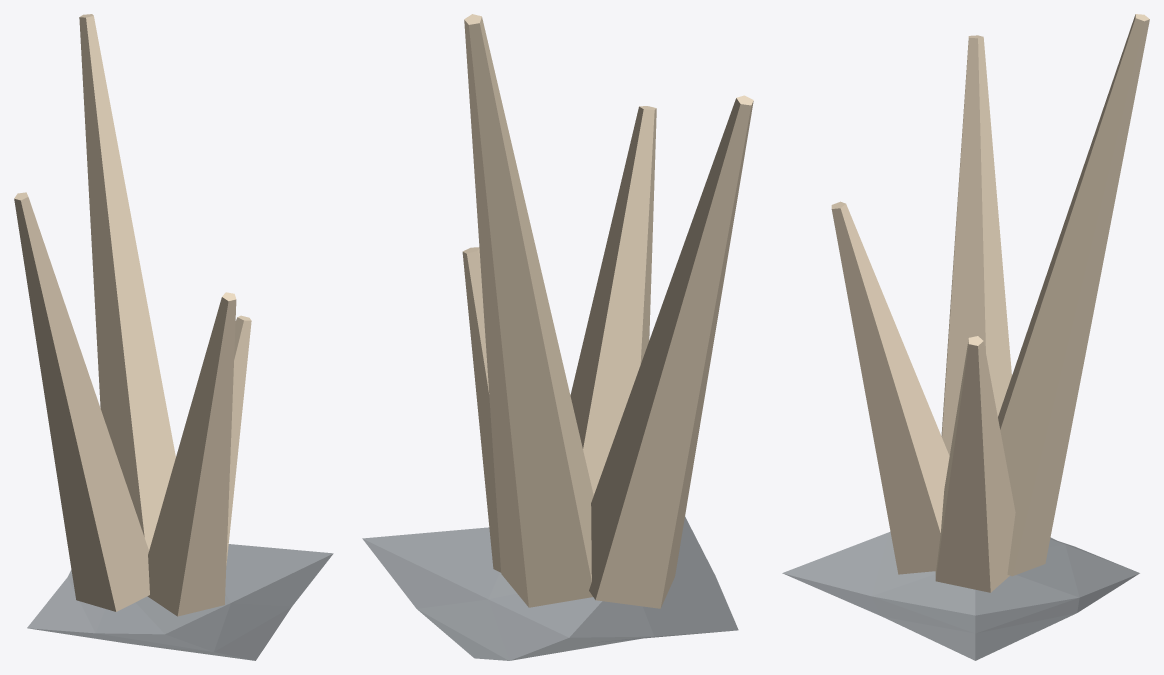
The model's file is crystal_v16.glb.
3 renders of one model, left to right at view 1: azimuth 30°, elevation 25°; view 2: azimuth 150°, elevation 25°; view 3: azimuth 270°, elevation 25°, orthographic. The views are drawn at different scales.
Parts seen in each view (by area): view 1: lod0; view 2: lod0; view 3: lod0.
Boxes of the visible parts, box(x1,y1,x2,y2) form: lod0: box(14, 14, 333, 660); lod0: box(362, 14, 753, 660); lod0: box(782, 14, 1149, 660).
Size of what is drawn, in the model's own units: 0.7141 by 1.21 by 0.6703.
